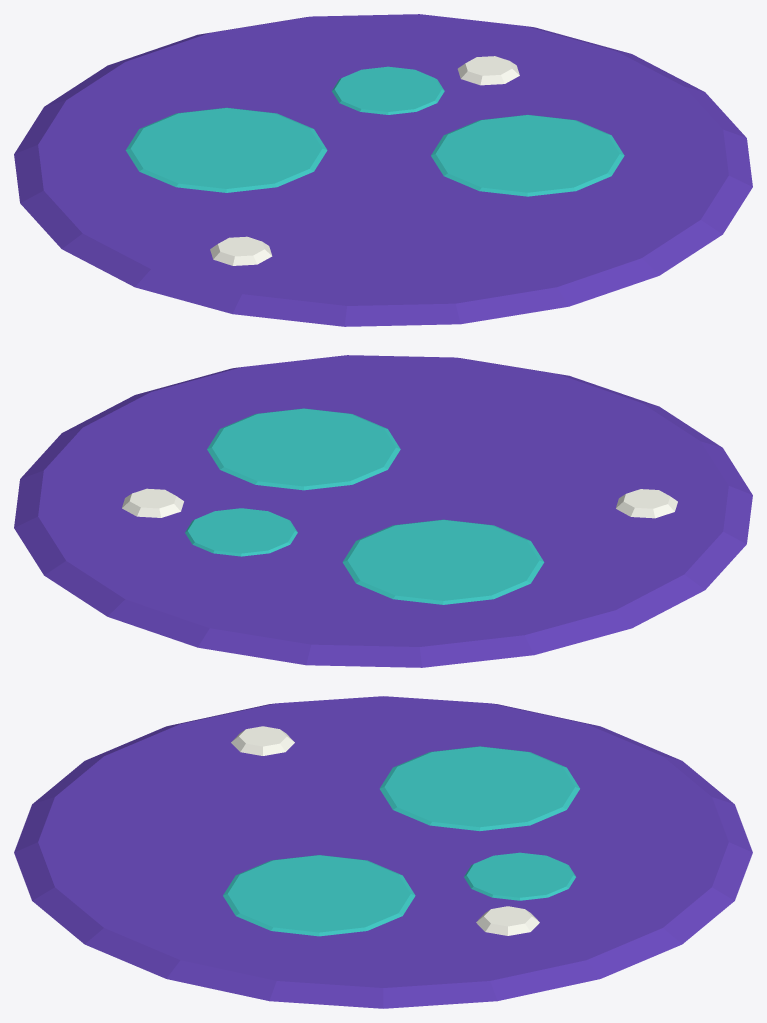
File: rainbow_oil.glb
3 renders of one model, top to bottom at view 1: azimuth 30°, elevation 25°; view 2: azimuth 150°, elevation 25°; view 3: azimuth 270°, elevation 25°, orthographic.
Parts seen in each view (by area): view 1: Violet puddle, Iridescent patch 0, Iridescent patch 1, Iridescent patch 2, Bubble 1, Bubble 0; view 2: Violet puddle, Iridescent patch 0, Iridescent patch 1, Iridescent patch 2, Bubble 0, Bubble 1; view 3: Violet puddle, Iridescent patch 0, Iridescent patch 1, Iridescent patch 2, Bubble 1, Bubble 0.
Boxes of the visible parts, <box> form: Violet puddle: <box>14,14,752,326</box>; Iridescent patch 0: <box>125,107,327,192</box>; Iridescent patch 1: <box>431,114,624,196</box>; Iridescent patch 2: <box>332,66,444,114</box>; Bubble 1: <box>457,56,519,85</box>; Bubble 0: <box>210,236,272,265</box>; Violet puddle: <box>14,355,752,667</box>; Iridescent patch 0: <box>342,519,544,604</box>; Iridescent patch 1: <box>207,408,400,490</box>; Iridescent patch 2: <box>185,508,297,556</box>; Bubble 0: <box>616,489,677,518</box>; Bubble 1: <box>122,488,183,517</box>; Violet puddle: <box>14,696,752,1008</box>; Iridescent patch 0: <box>379,746,579,831</box>; Iridescent patch 1: <box>223,855,415,936</box>; Iridescent patch 2: <box>464,852,575,900</box>; Bubble 1: <box>476,906,539,935</box>; Bubble 0: <box>231,726,294,755</box>.
Bounding box in the file's own units: 1.84 × 0.049 × 1.84.
